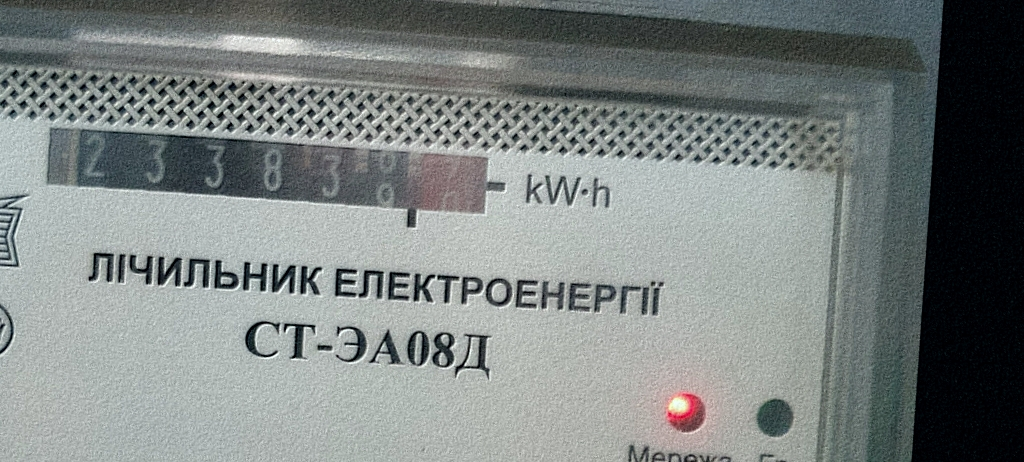0: (440, 187, 463, 215)
2: (83, 132, 110, 180)
3: (140, 135, 172, 186), (198, 140, 230, 191), (318, 151, 344, 199)
8: (258, 146, 288, 194), (375, 148, 400, 176)
9: (441, 151, 465, 182), (374, 179, 397, 210)
screen: (33, 115, 511, 237)
